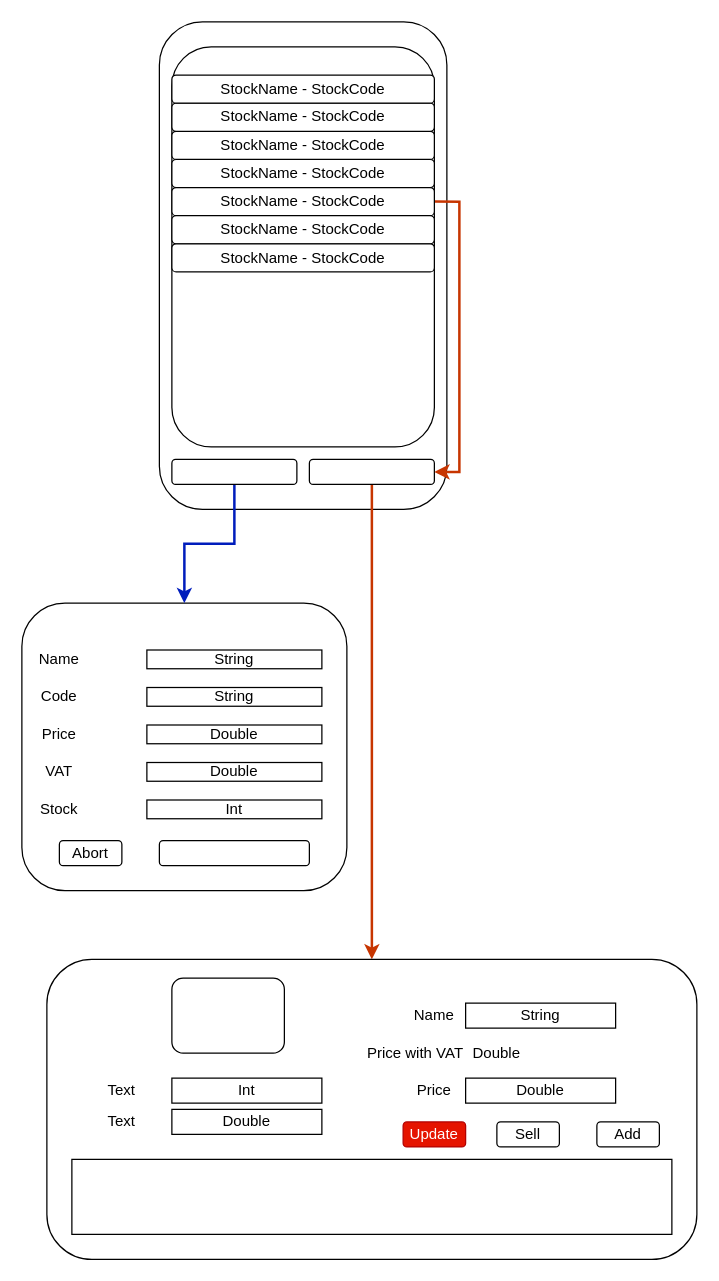
Some shapes in this 719 by 1281 pixel diagram are drawn without their labels. Here are the shapes that lost their labels. From the top down, the centre of each, then its label:
pixel 234 471: New Stock
pixel 371 471: Open
pixel 233 852: Save
pixel 227 1015: Icon
pixel 371 1196: Description
